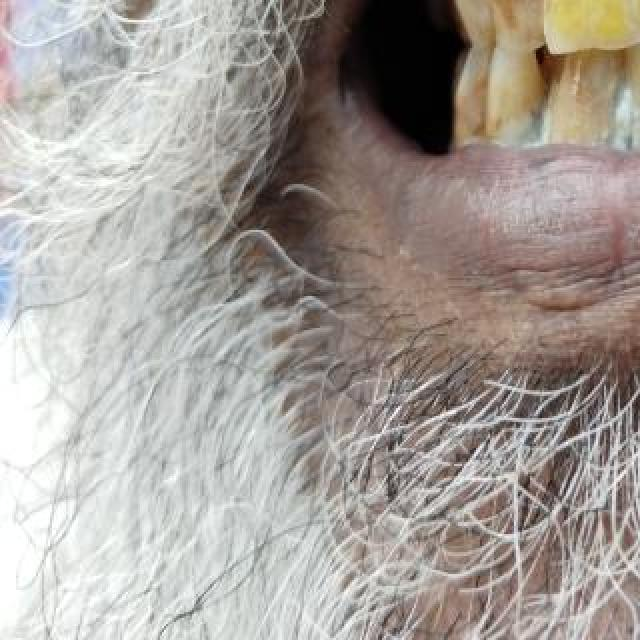calculus: (490, 89, 560, 173), (545, 73, 611, 157), (616, 78, 640, 152)
maligned: (529, 45, 565, 145)
stains: (448, 60, 494, 146)
